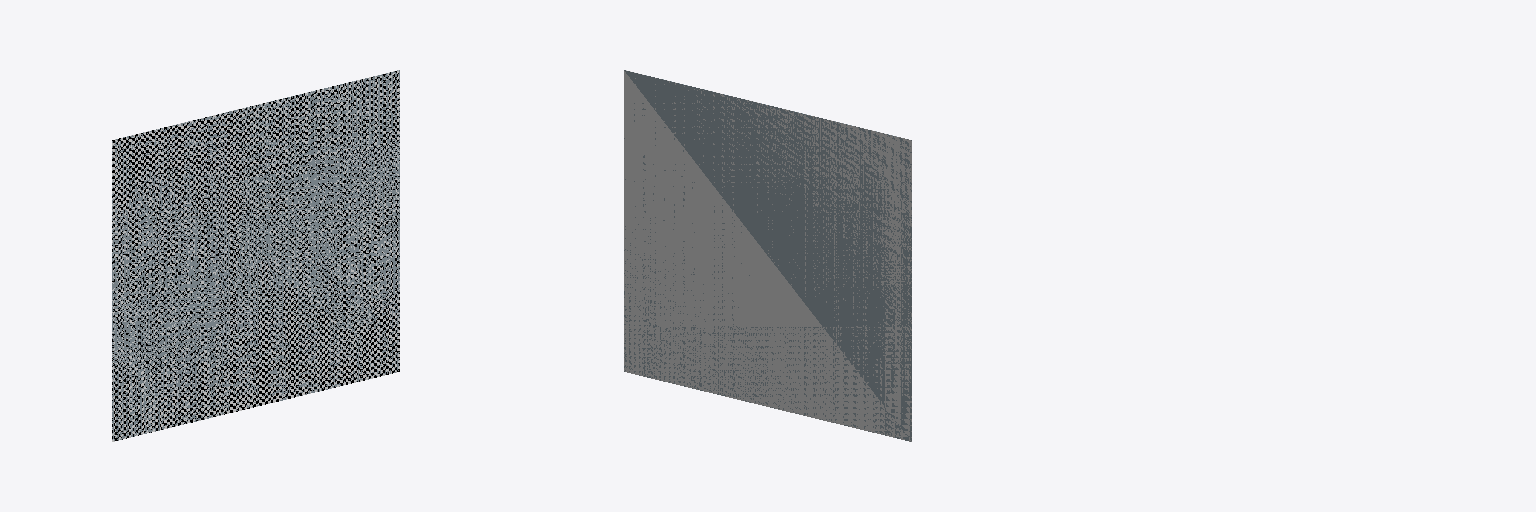
3 views of the same model, side by side, from view 1: azimuth 30°, elevation 25°; view 2: azimuth 150°, elevation 25°; view 3: azimuth 270°, elevation 25° (orthographic).
Visible parts, largest first — view 1: Mesh1 groundplane1 Model; view 2: Mesh1 groundplane1 Model; view 3: none.
Boxes of the visible parts, box(x1,y1,x2,y2) form: Mesh1 groundplane1 Model: box(112, 70, 399, 441); Mesh1 groundplane1 Model: box(624, 70, 911, 441).
Size of the model in its own units: 100 by 100 by 0.1.
3 materials, 1 textured.